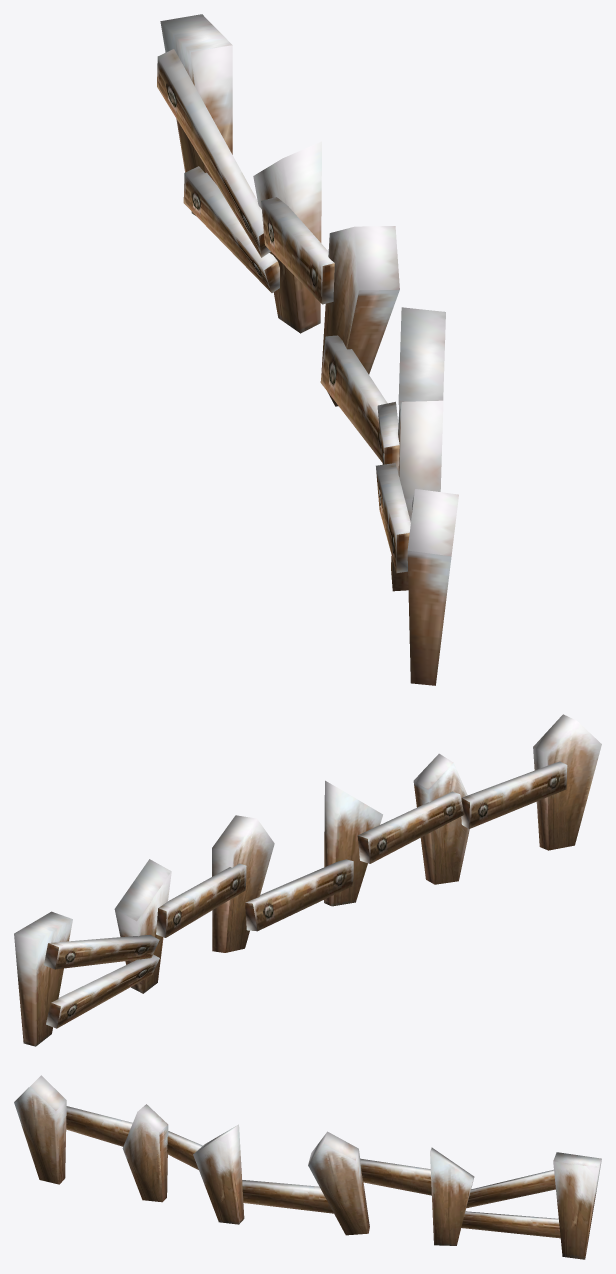
File: SM_Enclosure_14.fbx
3 renders of one model, top to bottom at view 1: azimuth 30°, elevation 25°; view 2: azimuth 150°, elevation 25°; view 3: azimuth 270°, elevation 25°, orthographic. The views are drawn at different scales.
Visible parts, largest first — view 1: SM_Enclosure_14; view 2: SM_Enclosure_14; view 3: SM_Enclosure_14.
Boxes of the visible parts, left/top/right/bottom form: SM_Enclosure_14: left=157, top=14, right=458, bottom=685; SM_Enclosure_14: left=14, top=714, right=601, bottom=1046; SM_Enclosure_14: left=14, top=1075, right=601, bottom=1259.
Bounding box in the file's own units: 2.06 × 1.08 × 5.69.
